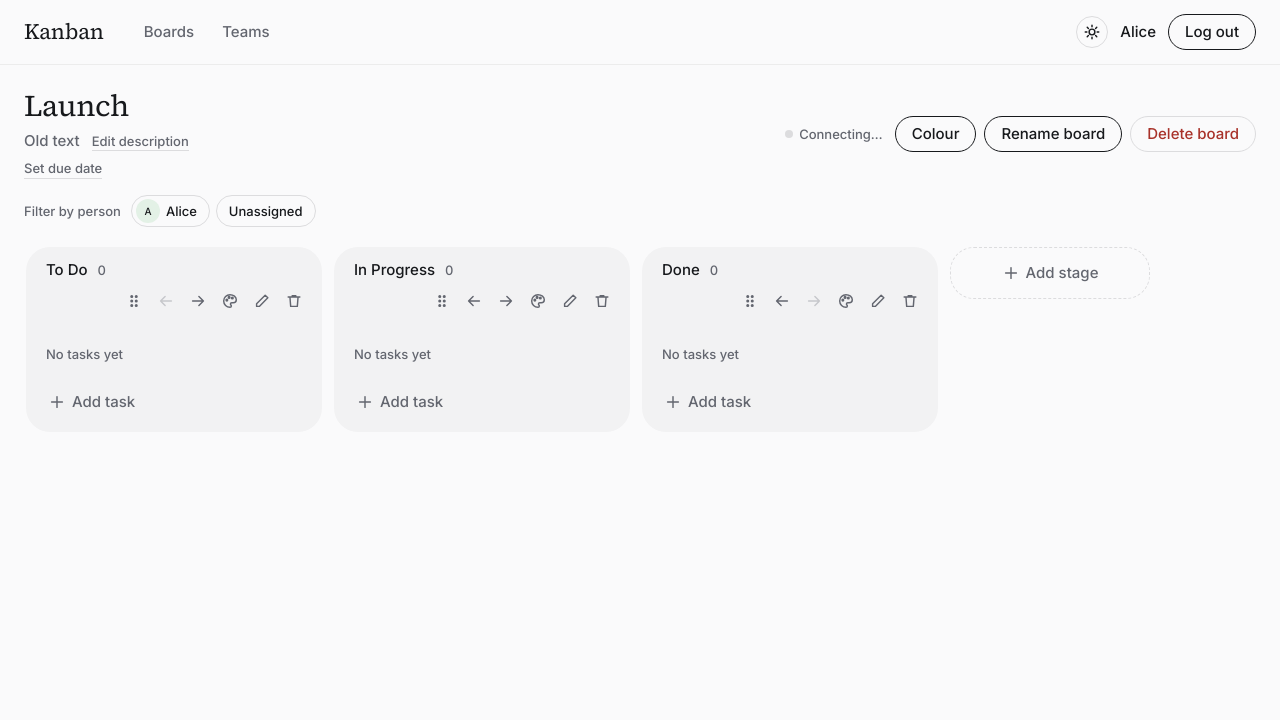
board description › can be edited, cancelled with Escape, and cleared
Click the button "Edit description": {"x": 140, "y": 141} [92, 132, 189, 151]
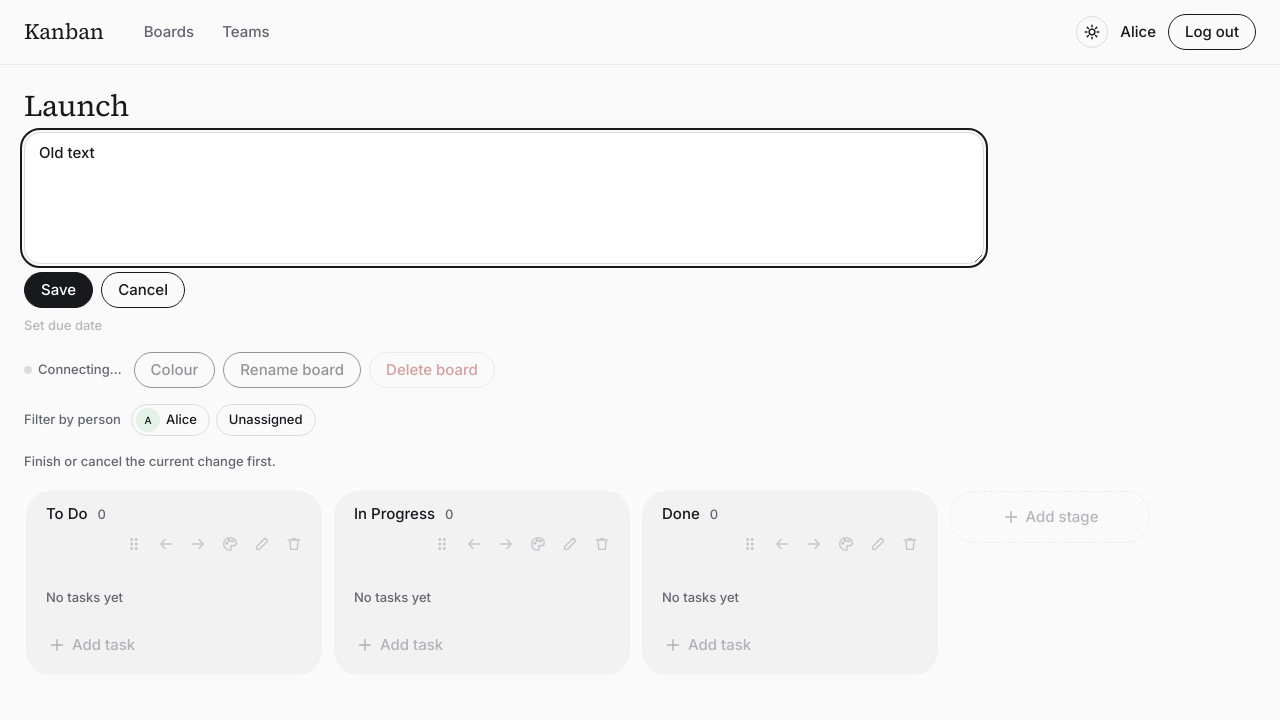
Expected: the text box named "Board description" holds "Old text"
In the text box named "Board description": {"x": 504, "y": 198} [24, 132, 984, 264], type " and more"
Then press Escape
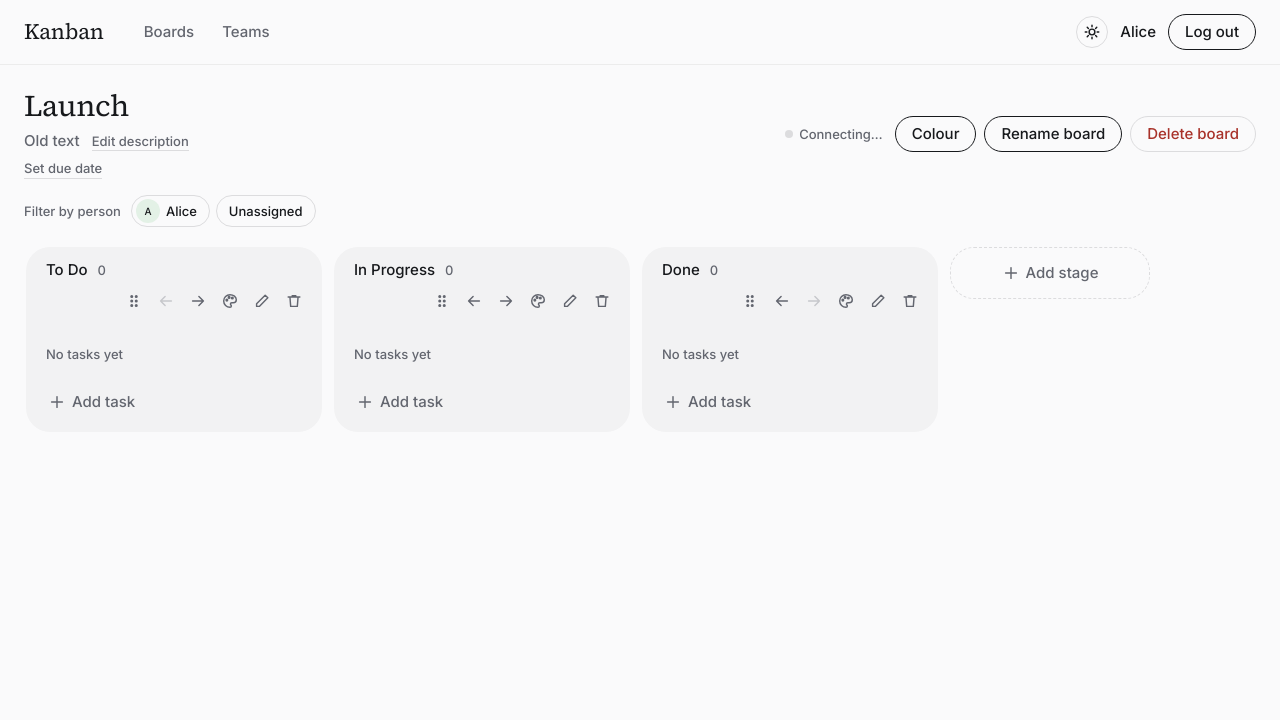
Expected: the text "Old text" is shown, [24, 130, 80, 151]
Click the button "Edit description": {"x": 140, "y": 141} [92, 132, 189, 151]
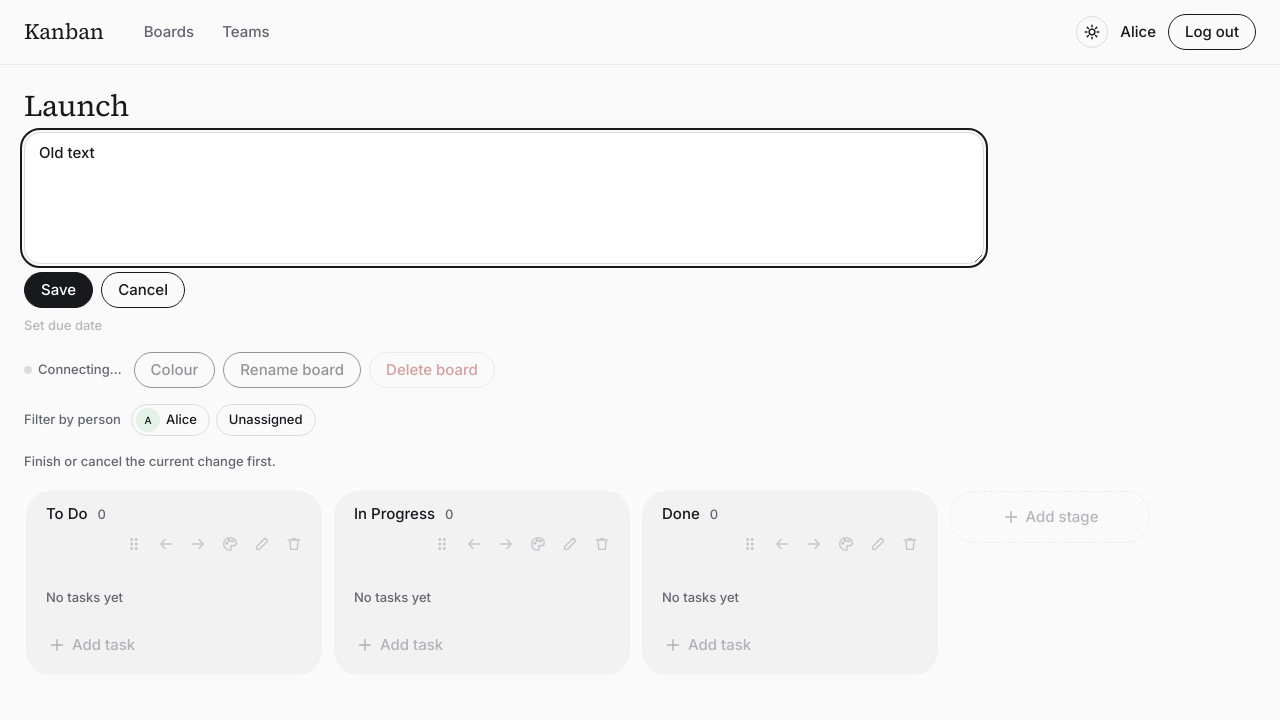
Clear the text box named "Board description": {"x": 504, "y": 198} [24, 132, 984, 264]
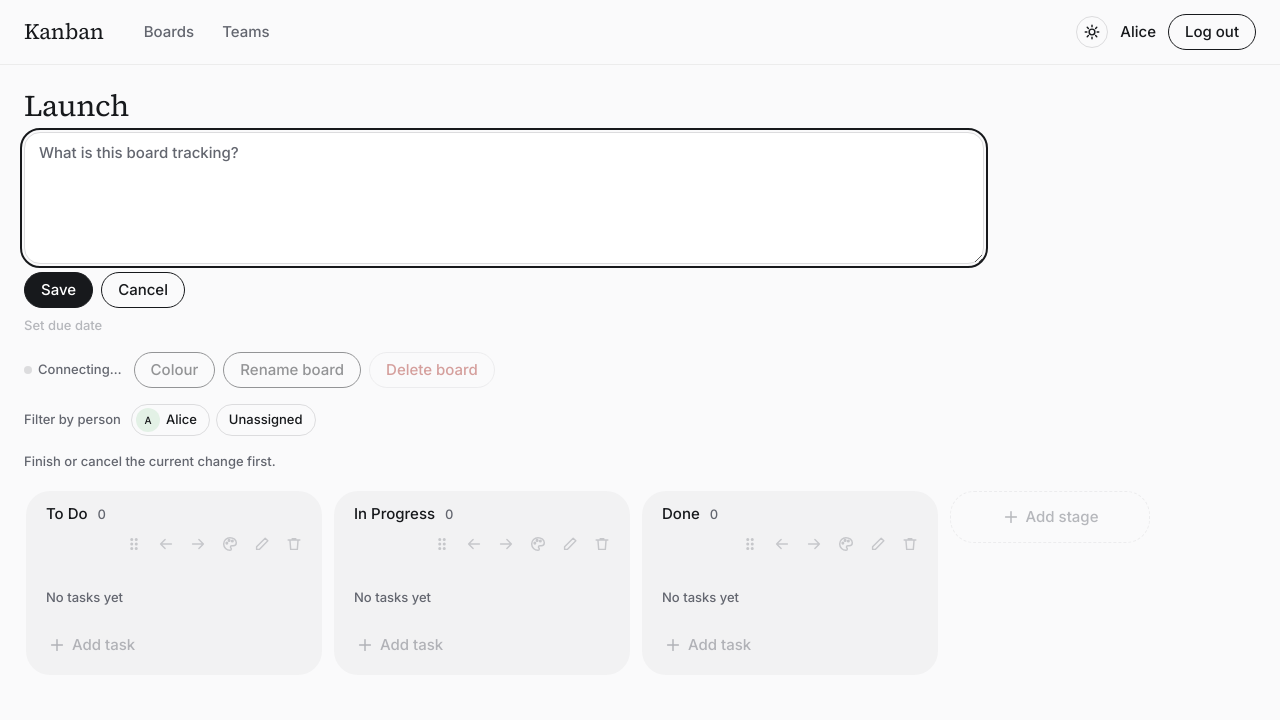
Click the button "Save": {"x": 59, "y": 290} [24, 272, 93, 308]
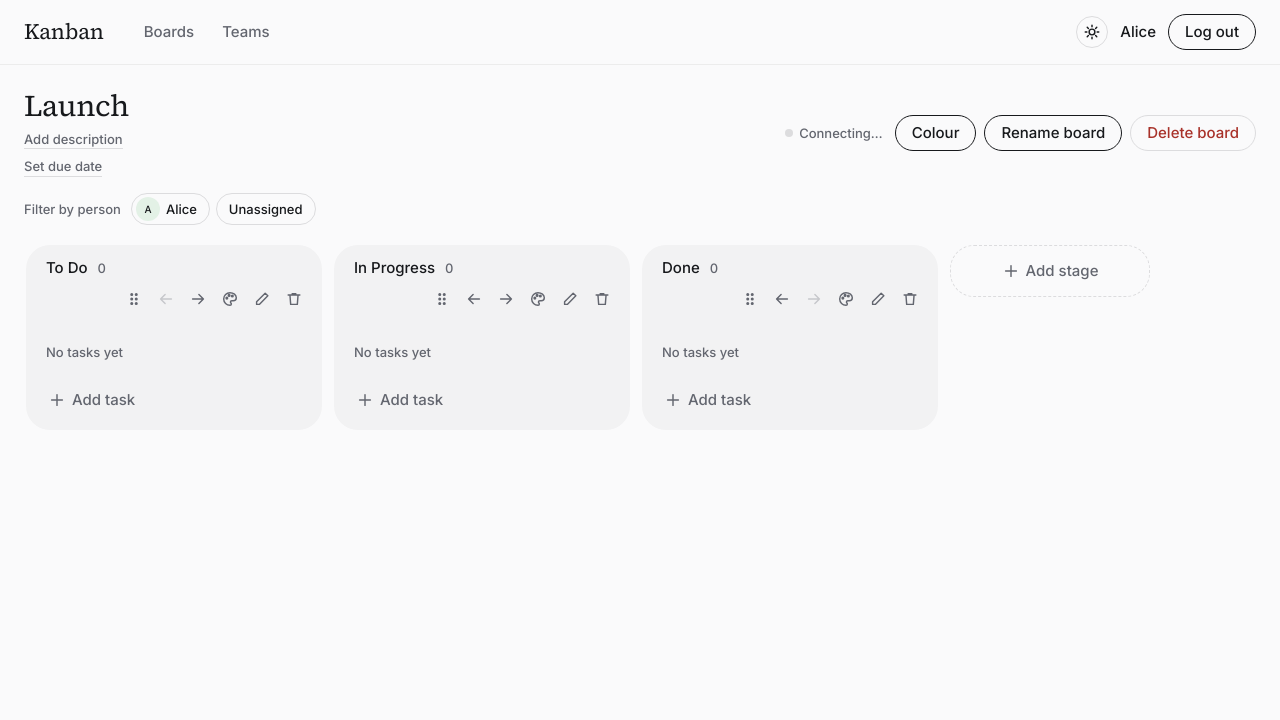
Expected: the button "Add description" is shown, [24, 130, 123, 149]
